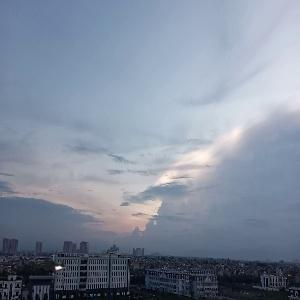drone: (24, 245, 76, 297)
